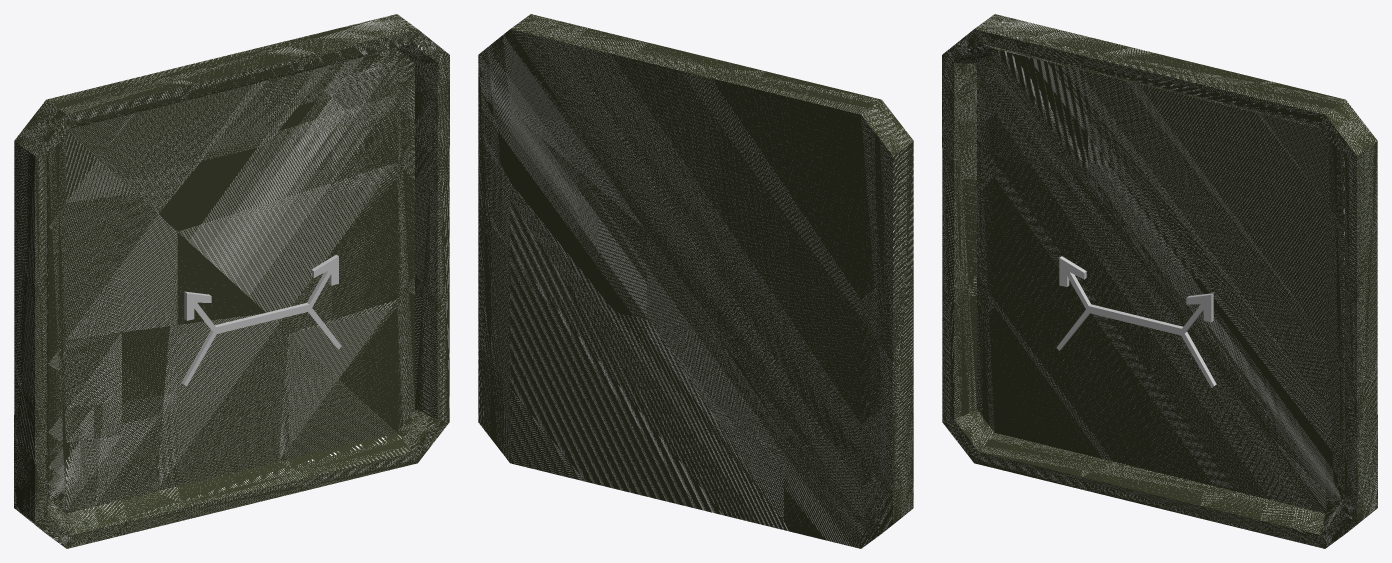
Rendered from CM_-_Support_by_Fire.obj.
3 views of the same model, side by side, from view 1: azimuth 30°, elevation 25°; view 2: azimuth 150°, elevation 25°; view 3: azimuth 330°, elevation 25° (orthographic).
Parts seen in each view (by area): view 1: Button.001_ID13, Button_ID3, SM_CM_-_Support_by_Fire_mesh.029; view 2: Button_ID3; view 3: Button.001_ID13, Button_ID3, SM_CM_-_Support_by_Fire_mesh.029.
Boxes of the visible parts, bbox=[...] form: Button.001_ID13: bbox=[47, 43, 437, 534]; Button_ID3: bbox=[14, 14, 449, 548]; SM_CM_-_Support_by_Fire_mesh.029: bbox=[181, 254, 341, 386]; Button_ID3: bbox=[478, 14, 913, 548]; Button.001_ID13: bbox=[954, 43, 1344, 534]; Button_ID3: bbox=[942, 14, 1377, 548]; SM_CM_-_Support_by_Fire_mesh.029: bbox=[1056, 256, 1216, 387].
Bounding box in the file's own units: 1 × 1 × 0.1592.
